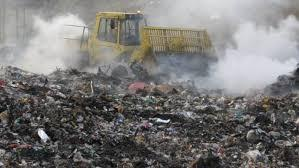smoke: (205, 23, 299, 92), (9, 14, 87, 74)
